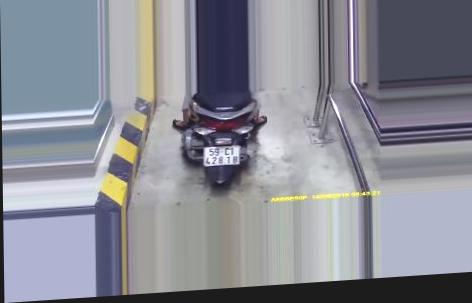License_Plate: (200, 142, 243, 170)
